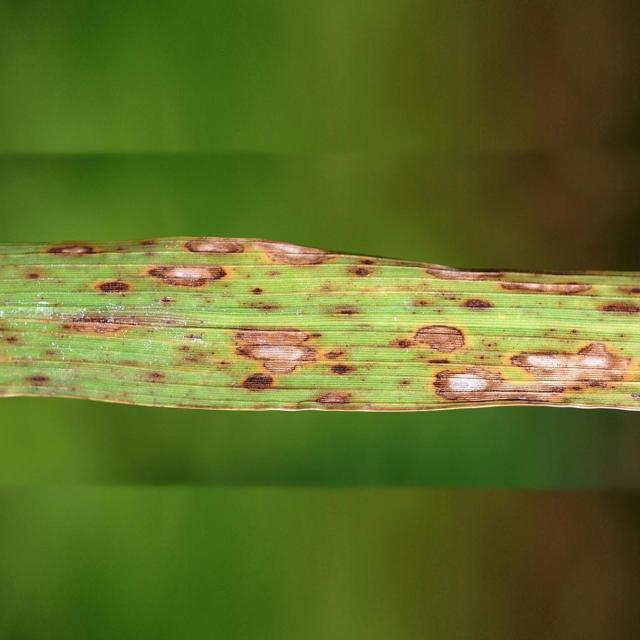Leaf blast: (5, 239, 640, 414)
